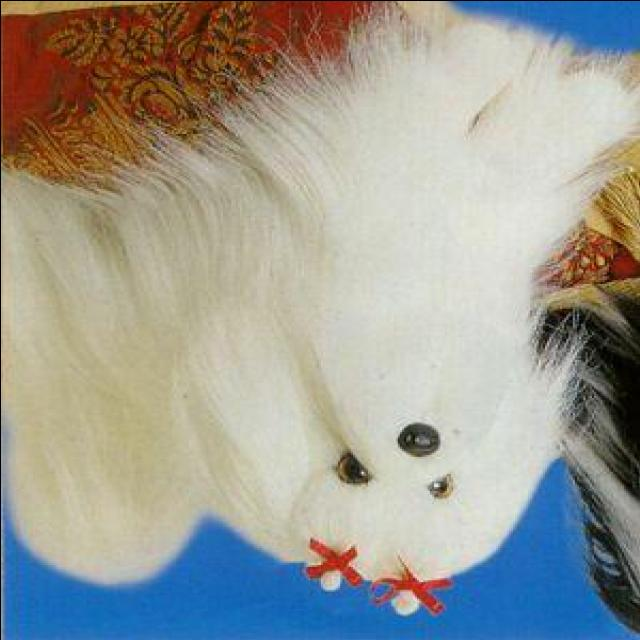maltese_dog: (0, 15, 638, 617)
